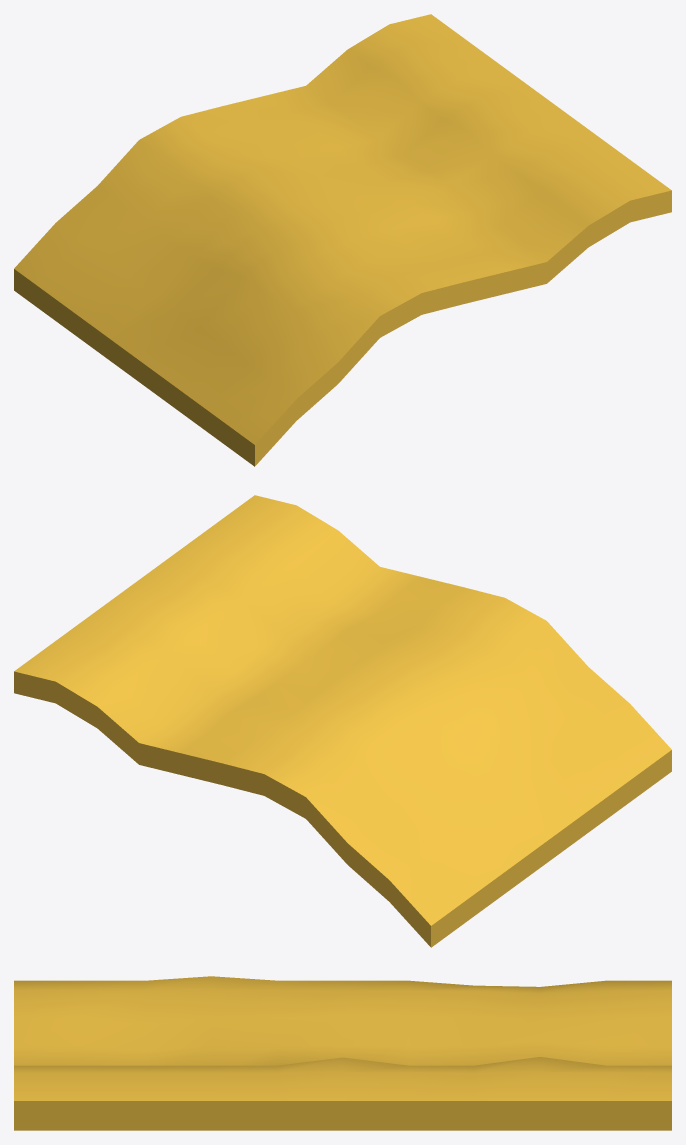
The model's file is Flach - Mitte - Hügle b - b.fbx.
3 views of the same model, one above another, from view 1: azimuth 30°, elevation 25°; view 2: azimuth 150°, elevation 25°; view 3: azimuth 270°, elevation 25° (orthographic). The views are drawn at different scales.
Visible parts, largest first — view 1: Flach - Mitte - Hügle b - b; view 2: Flach - Mitte - Hügle b - b; view 3: Flach - Mitte - Hügle b - b.
Boxes of the visible parts, x1,y1,x2,y2 form: Flach - Mitte - Hügle b - b: (14,14,671,466); Flach - Mitte - Hügle b - b: (14,495,671,947); Flach - Mitte - Hügle b - b: (14,976,671,1130).
Size of the model in its own units: 394 by 157 by 394.
